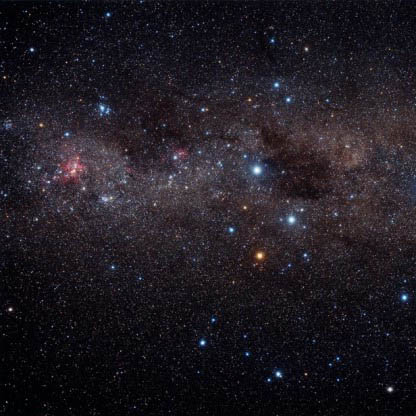Southern Cross: (239, 158, 268, 187), (273, 208, 301, 233), (220, 220, 246, 242), (248, 247, 273, 269)
